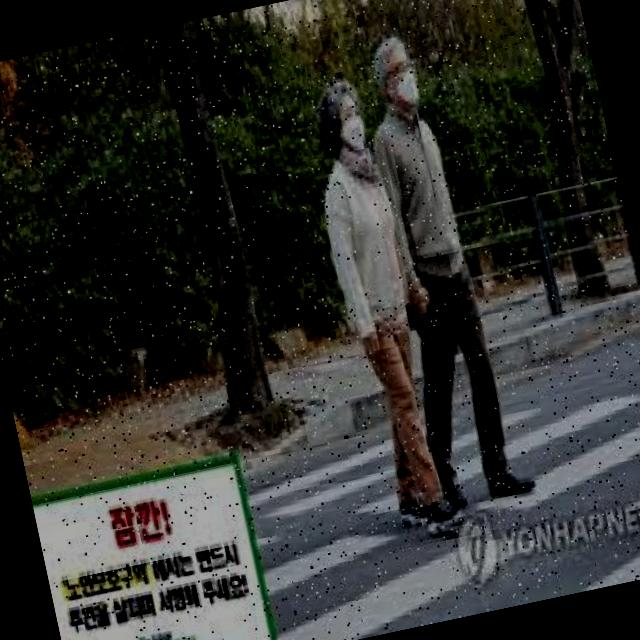Person: (344, 22, 531, 510), (297, 77, 463, 545)
